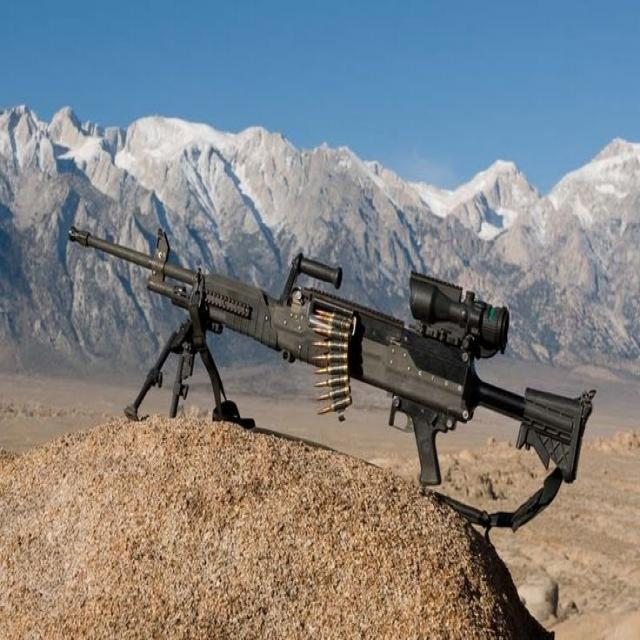weapon: (67, 220, 599, 486)
